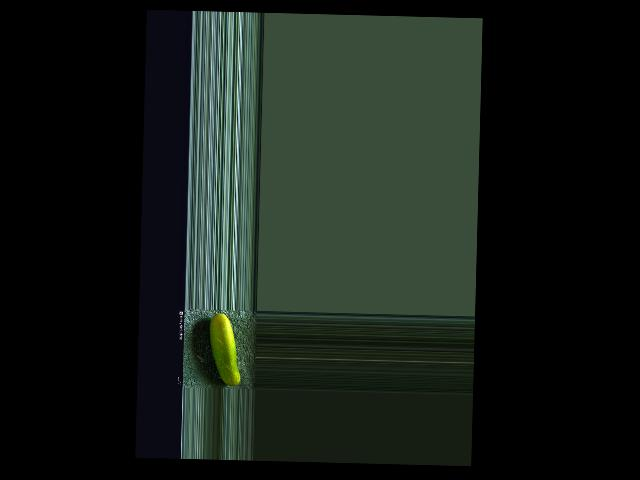cucumber: (207, 313, 242, 386)
